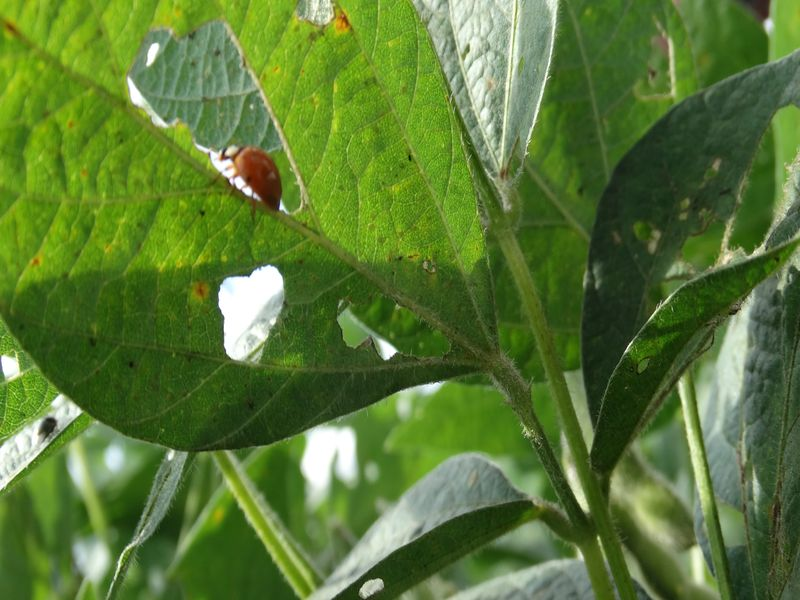Coccinellidae: (195, 129, 302, 231)
